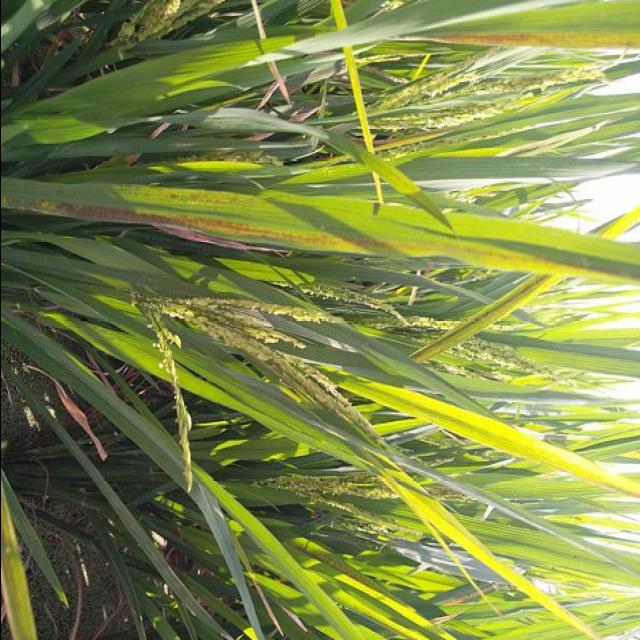Leaf Streak: (0, 186, 640, 280), (436, 28, 640, 47)
